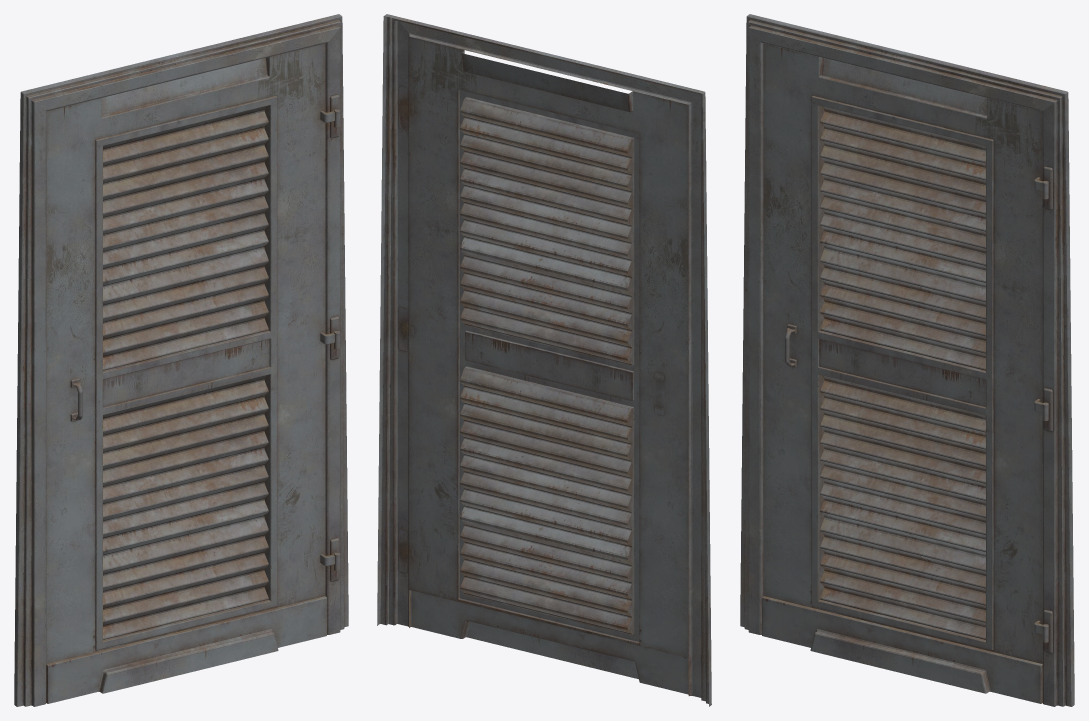
File: SM_Single_Door01.glb
The picture shows the model from 3 angles, left to right: view 1: azimuth 30°, elevation 25°; view 2: azimuth 150°, elevation 25°; view 3: azimuth 330°, elevation 25°; orthographic projection.
Visible parts, largest first — view 1: SM_Single_Door01; view 2: SM_Single_Door01; view 3: SM_Single_Door01.
Boxes of the visible parts, <box> form: SM_Single_Door01: <box>14,14,348,706</box>; SM_Single_Door01: <box>377,14,711,706</box>; SM_Single_Door01: <box>740,14,1074,706</box>.
Bounding box in the file's own units: 1.2 × 2.11 × 0.0763.
1 material, 1 textured.
